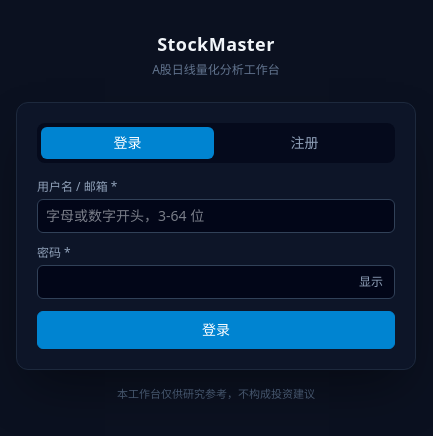
Test: 登录表单校验 › 输入后错误提示消失
The width and height of the screenshot is (433, 436).
Click the button "登录": (216, 330) [37,311,395,349]
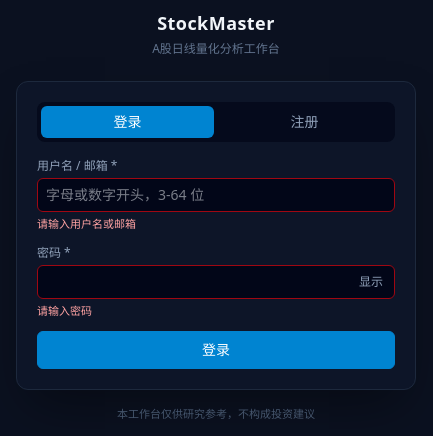
Check: the text "请输入用户名或邮箱" is shown, box [37,216,136,231]
In the field labelled "用户名 / 邮箱 *": (216, 195) [37,178,395,212], type "alice"
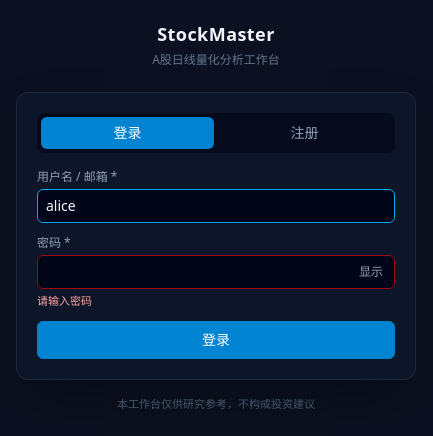
Check: the text "请输入用户名或邮箱" is gone
